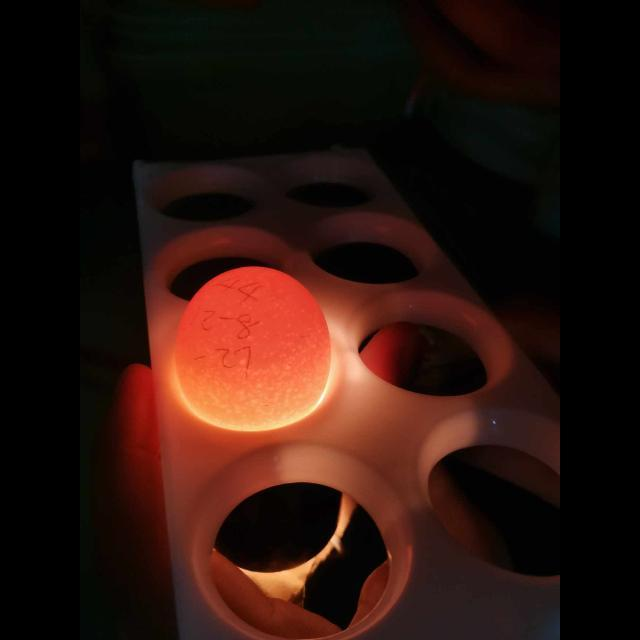Infertile: (170, 263, 338, 429)
